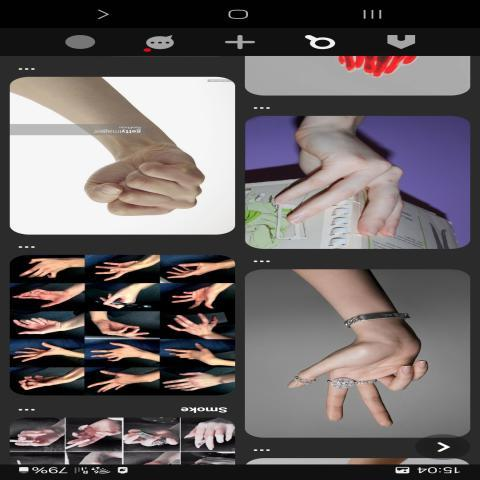Hands: (285, 282, 438, 437), (259, 127, 411, 247)
